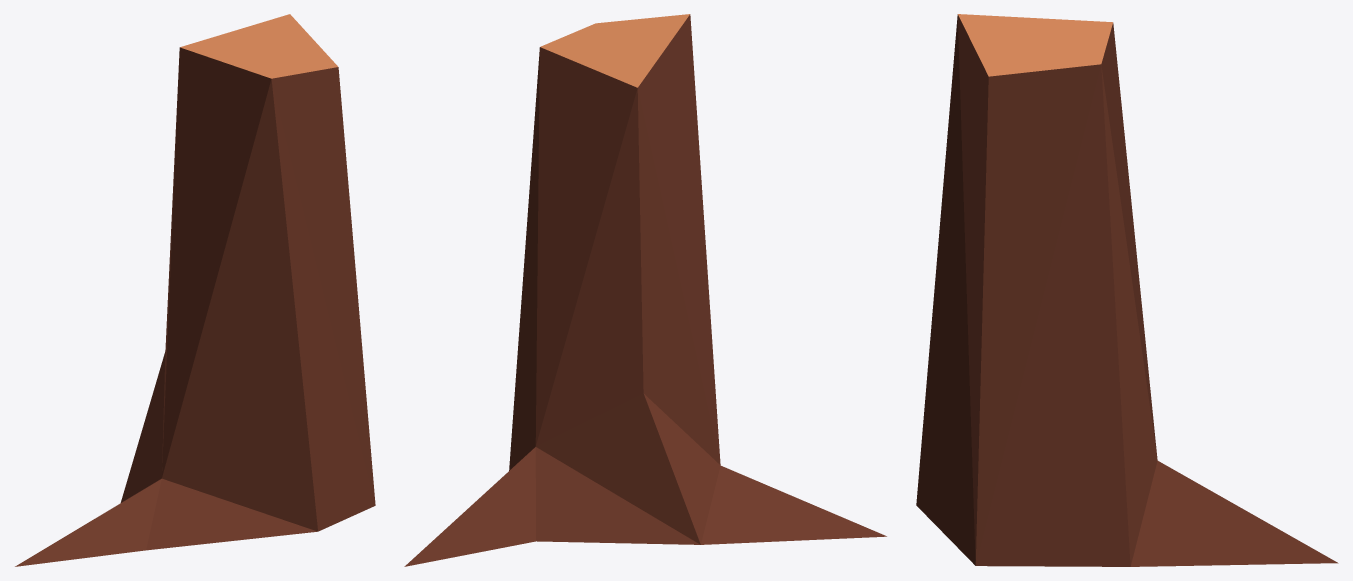
The model's file is pine_trunk_type_6_LOD3.fbx.
3 renders of one model, left to right at view 1: azimuth 30°, elevation 25°; view 2: azimuth 150°, elevation 25°; view 3: azimuth 270°, elevation 25°, orthographic. The views are drawn at different scales.
Parts seen in each view (by area): view 1: pt_type_6.001; view 2: pt_type_6.001; view 3: pt_type_6.001.
Boxes of the visible parts, x1,y1,x2,y2 form: pt_type_6.001: (15, 14, 375, 566); pt_type_6.001: (404, 14, 886, 566); pt_type_6.001: (916, 14, 1338, 566).
Size of the model in its own units: 323 by 422 by 324.
